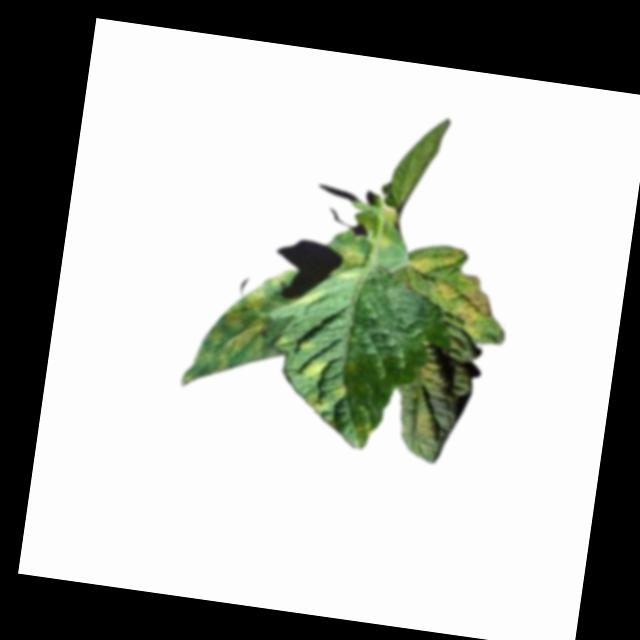Leaf_Mold: (178, 258, 293, 394), (403, 242, 500, 341), (411, 352, 473, 399), (403, 405, 442, 444), (332, 239, 369, 272), (296, 354, 326, 382)
